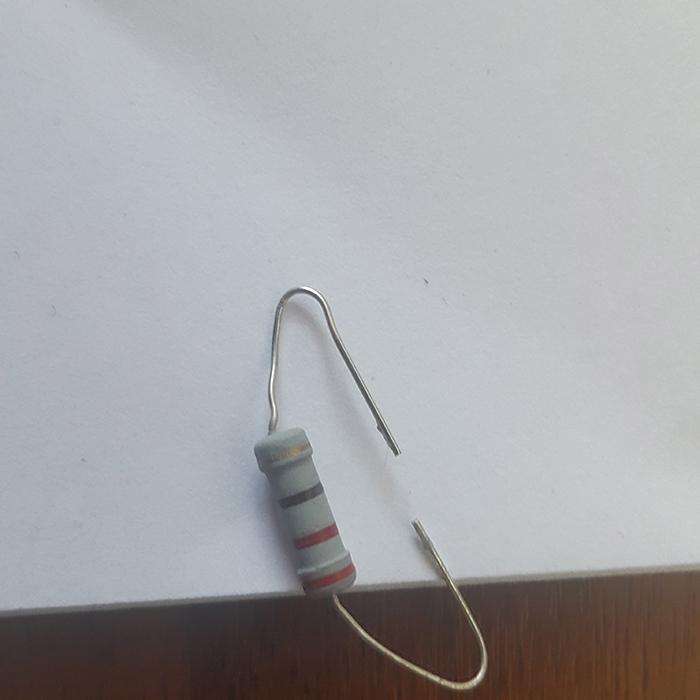resistor: (250, 423, 359, 595)
